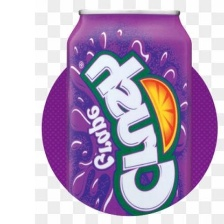can: (65, 8, 195, 217)
